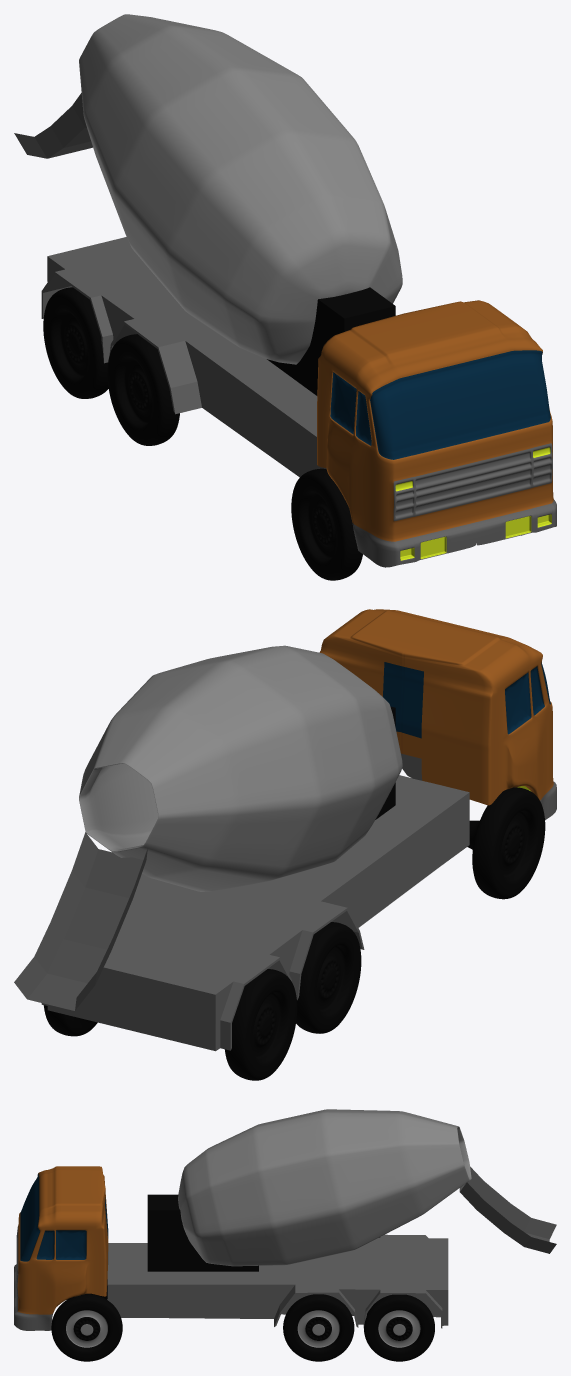
Rendered from betoncircle.fbx.
The picture shows the model from 3 angles, top to bottom: view 1: azimuth 30°, elevation 25°; view 2: azimuth 150°, elevation 25°; view 3: azimuth 270°, elevation 25°; orthographic projection. The views are drawn at different scales.
Parts seen in each view (by area): view 1: Plane.001, Plane, Cube, Cylinder.001, Cylinder, Cylinder.002, Cube.001, Plane.002; view 2: Plane.001, Cube, Plane, Plane.002, Cylinder.002, Cylinder, Cylinder.001; view 3: Plane.001, Cube, Plane, Cylinder, Cylinder.001, Cylinder.002, Cube.001, Plane.002.
Boxes of the visible parts, <box> form: Plane.001: <box>79,14,402,364</box>; Plane: <box>317,300,556,567</box>; Cube: <box>41,237,326,477</box>; Cylinder.001: <box>107,334,179,445</box>; Cylinder: <box>291,468,521,580</box>; Cylinder.002: <box>43,287,108,398</box>; Cube.001: <box>267,287,395,395</box>; Plane.002: <box>14,93,92,158</box>; Plane.001: <box>79,645,402,891</box>; Cube: <box>41,775,469,1051</box>; Plane: <box>319,609,556,820</box>; Plane.002: <box>14,832,147,1010</box>; Cylinder.002: <box>43,969,297,1080</box>; Cylinder: <box>467,787,545,899</box>; Cylinder.001: <box>296,922,361,1033</box>; Plane.001: <box>178,1109,471,1266</box>; Cube: <box>107,1234,448,1328</box>; Plane: <box>14,1166,108,1330</box>; Cylinder: <box>51,1279,122,1361</box>; Cylinder.001: <box>283,1294,354,1361</box>; Cylinder.002: <box>364,1294,434,1361</box>; Cube.001: <box>147,1194,258,1271</box>; Plane.002: <box>459,1166,556,1253</box>.
Bounding box in the file's own units: 177 × 285 × 639.
